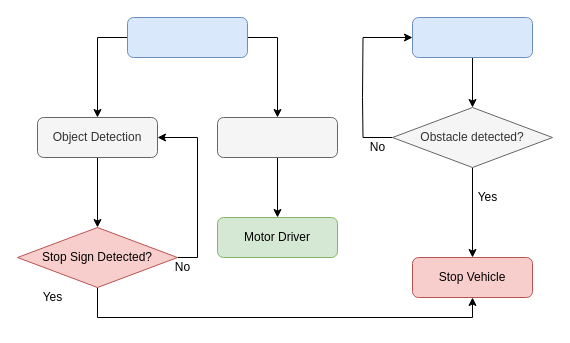
Some shapes in this 570 by 343 pixel diagram are drawn without their labels. The shapes that lost their labels are listed below. From the top down, each one's centre as x and y in pixels, then its label:
the point at 187,37: Video Feed
the point at 472,37: Distance Data
the point at 277,137: Neural Network
